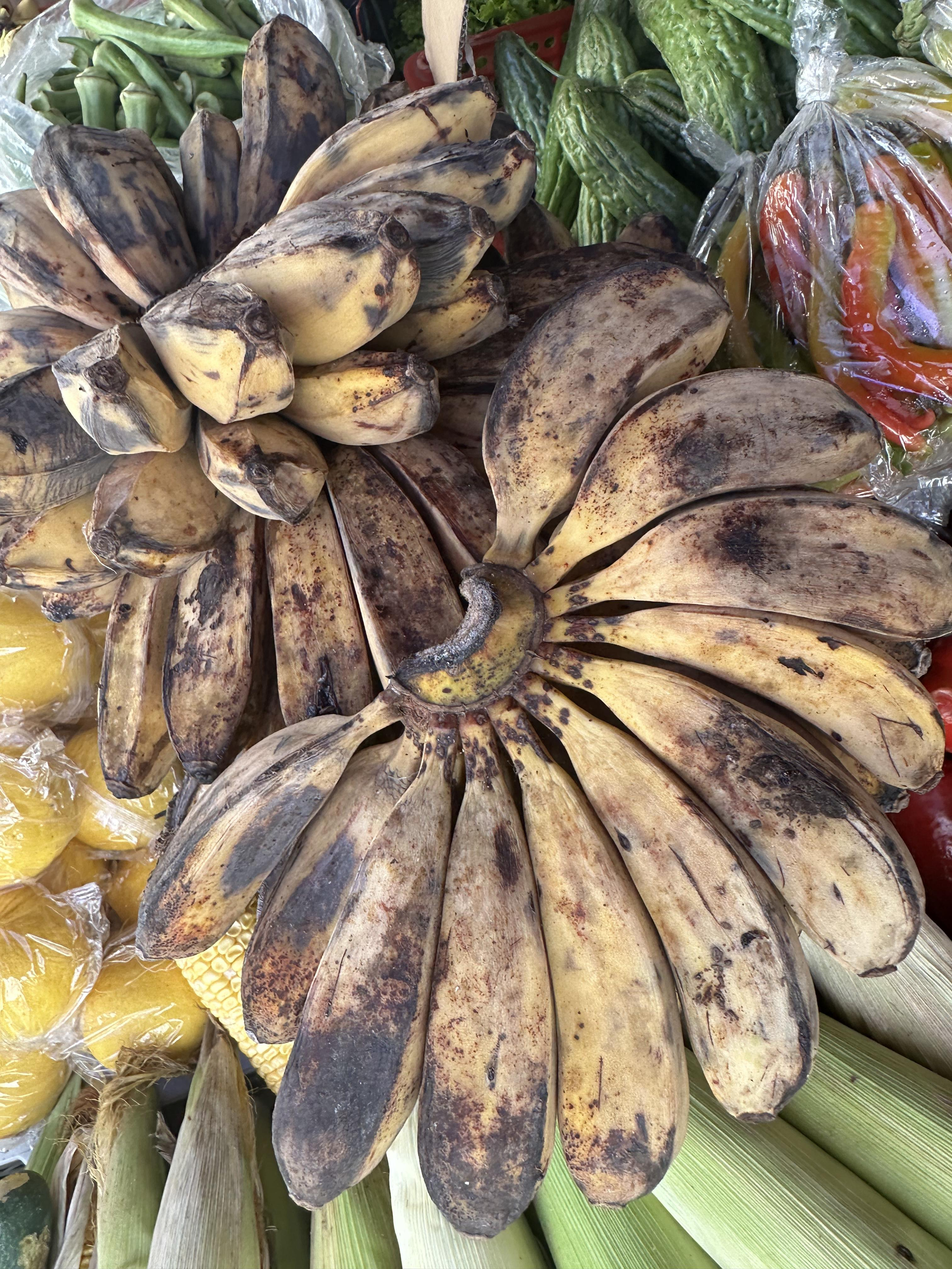ripe: (133, 262, 952, 1239), (42, 242, 725, 802), (0, 19, 544, 592)
